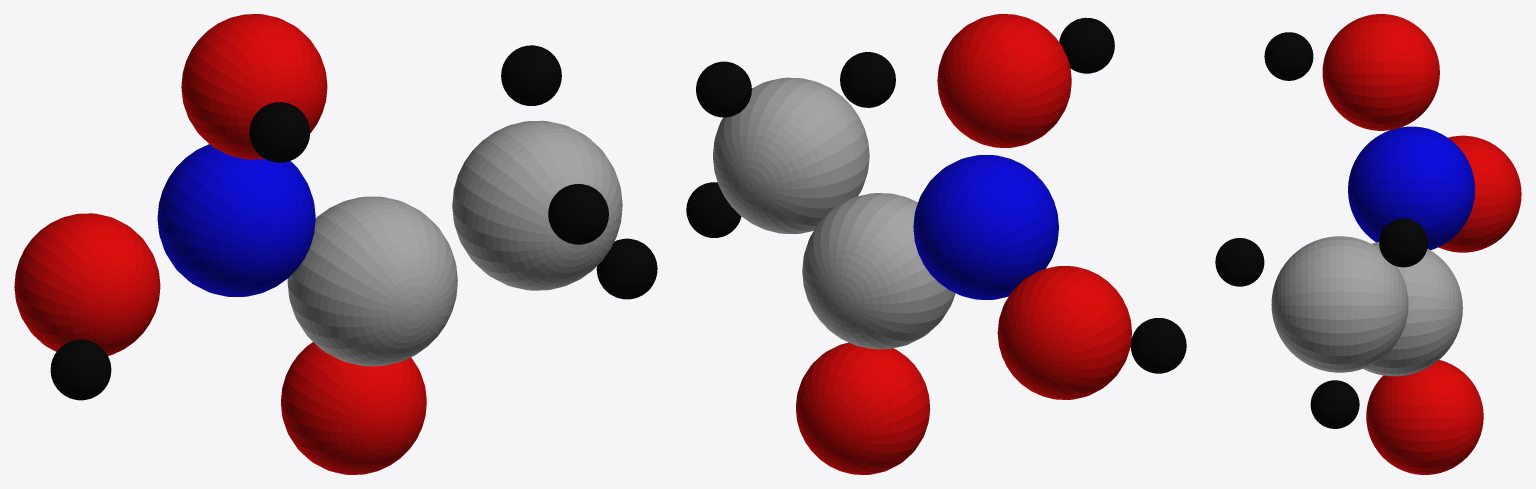
Rendered from Acetohydroxamic Acid.glb.
3 renders of one model, left to right at view 1: azimuth 30°, elevation 25°; view 2: azimuth 150°, elevation 25°; view 3: azimuth 270°, elevation 25°, orthographic. The views are drawn at different scales.
Parts seen in each view (by area): view 1: world; view 2: world; view 3: world.
Boxes of the visible parts, x1,y1,x2,y2 form: world: [14, 14, 657, 474]; world: [686, 14, 1186, 474]; world: [1215, 14, 1521, 474].
Bounding box in the file's own units: 5.38 × 4.51 × 3.13.
